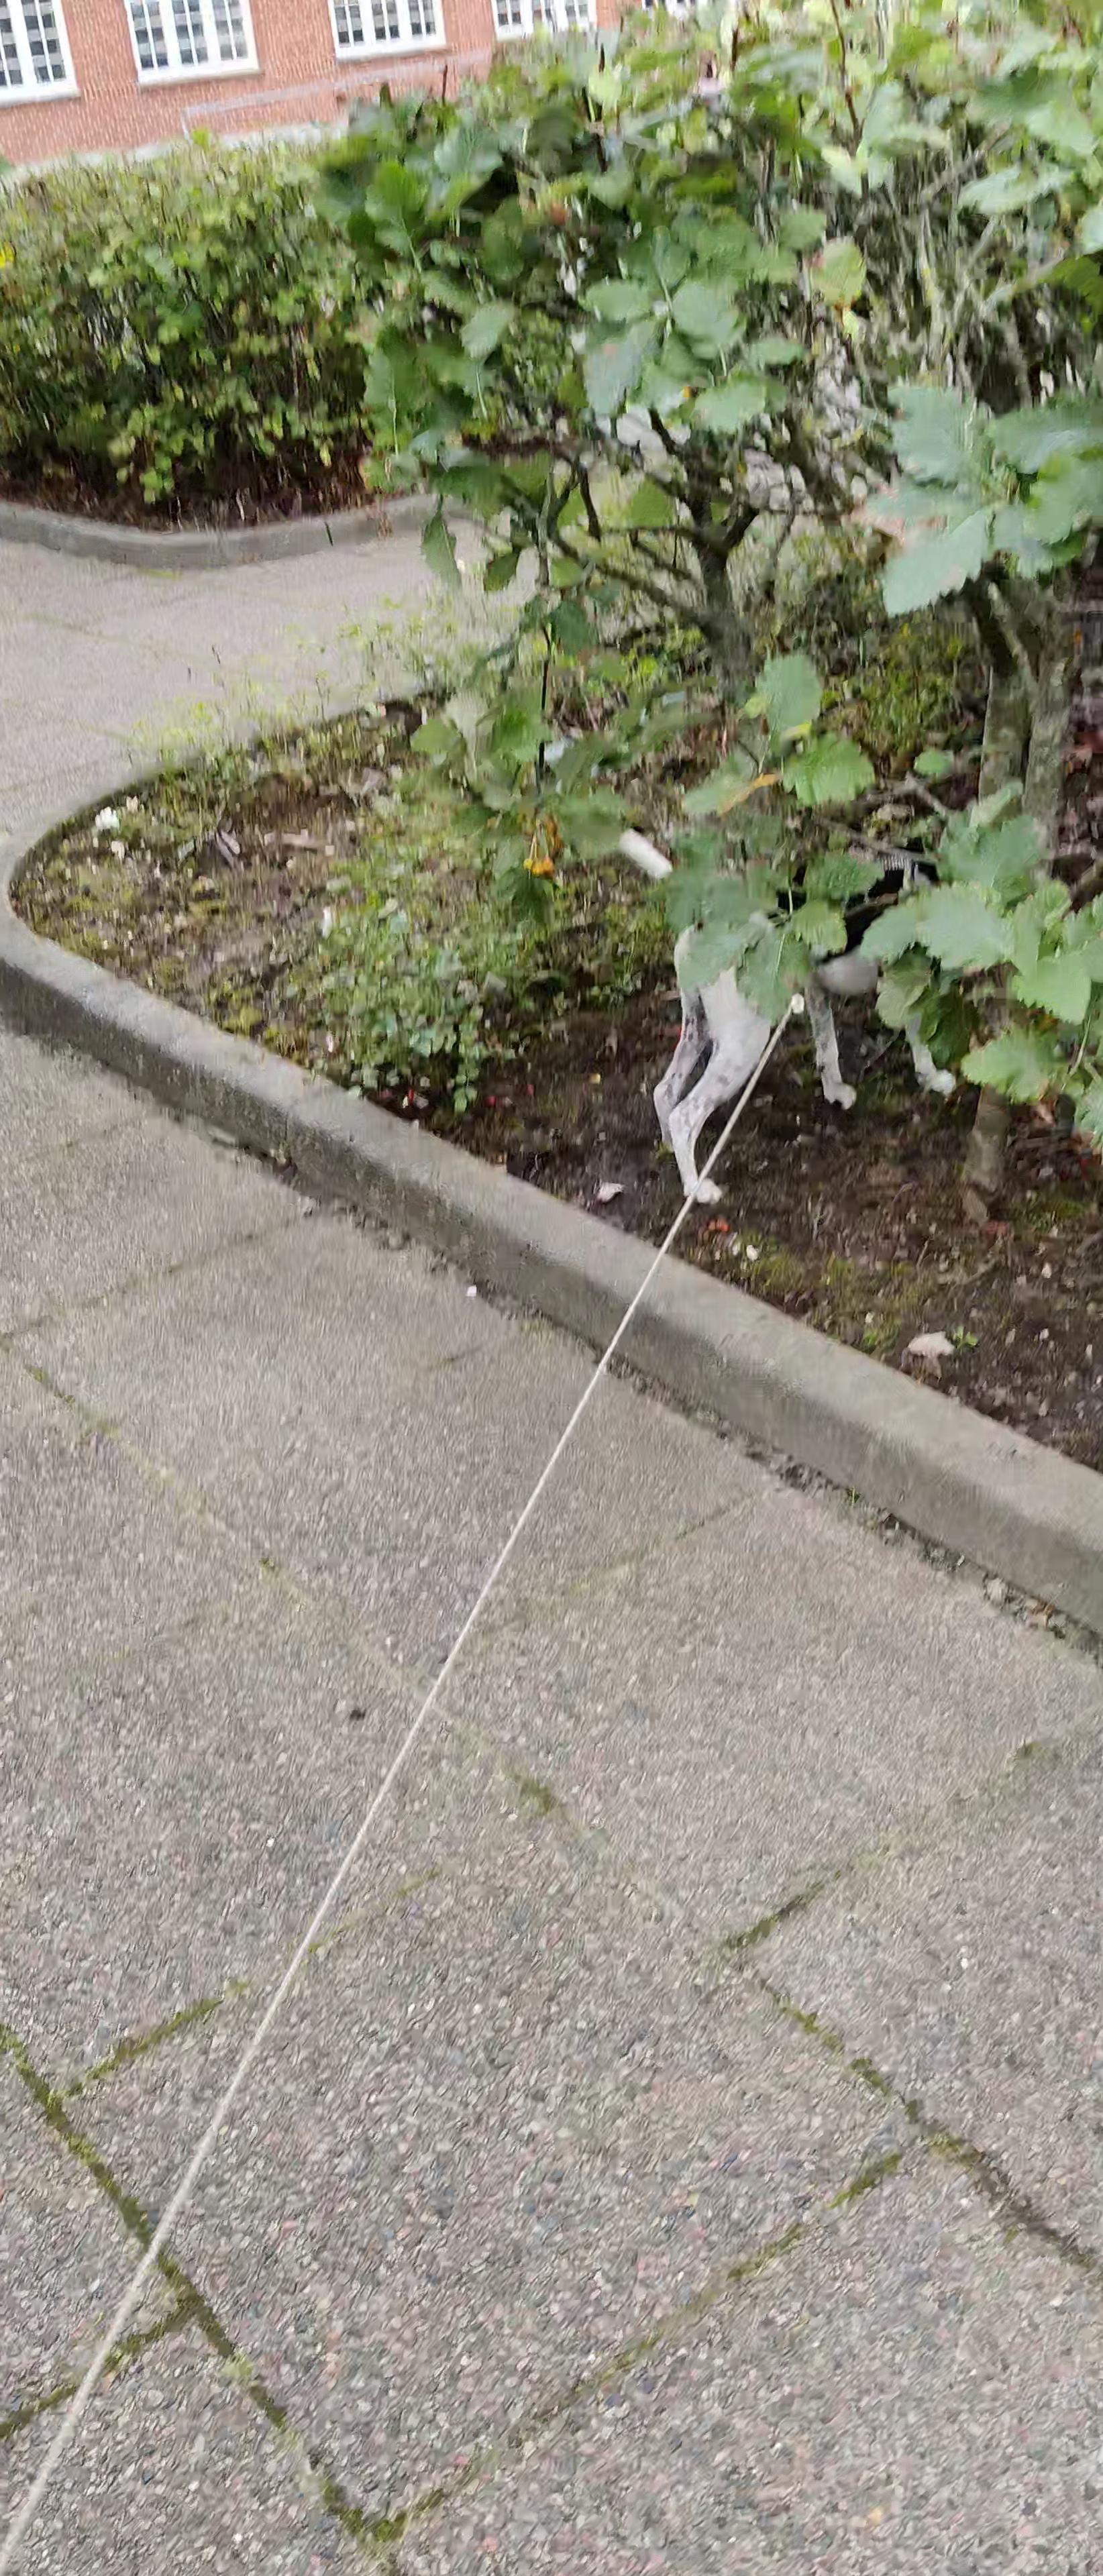Dog: (610, 816, 981, 1212)
